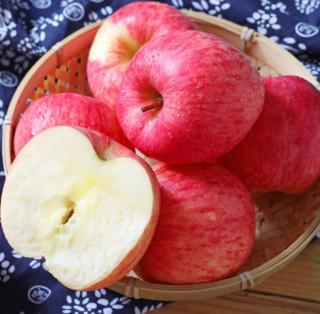apple: (2, 125, 158, 293), (117, 31, 264, 163), (129, 154, 254, 285), (84, 1, 200, 107), (220, 75, 319, 193), (11, 93, 138, 161)
